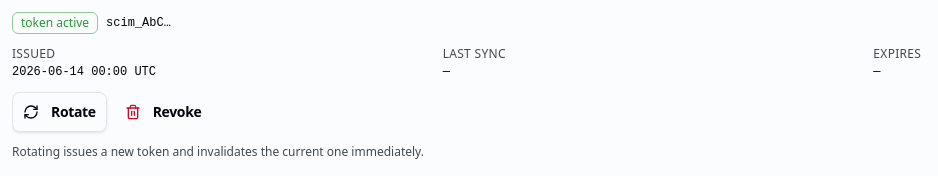
Test: ScimProvisioningSection › treats a DELETE 404 as already-revoked (no error; refreshes to the no-token state)
Click the button "Revoke". click: (163, 112)
box: [115,92,211,132]
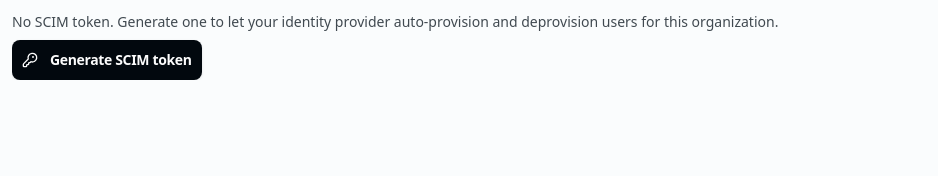
Expected: the button "Generate SCIM token" is shown, [12,40,202,80]
Expected: the text "token active" is gone
